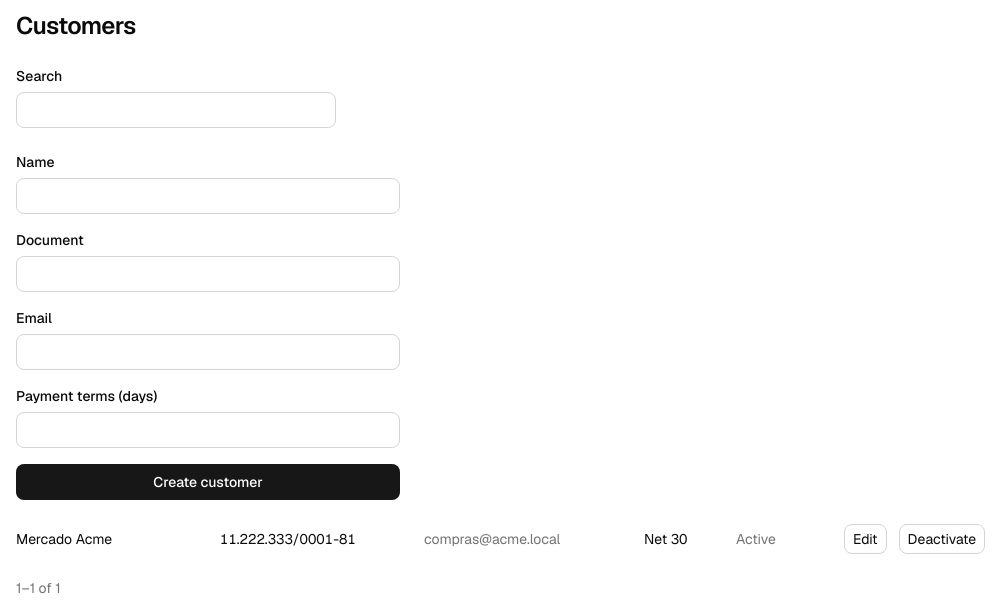
Test: customers panel › switches a customer off from its row and says so
This screenshot has width=1002, height=611.
expect the text "Mercado Acme" is shown: met, box x1=16 y1=530 x2=112 y2=548
Click the button with aria-label "Deactivate Mercado Acme".
click(942, 539)  # box x1=899 y1=524 x2=985 y2=554
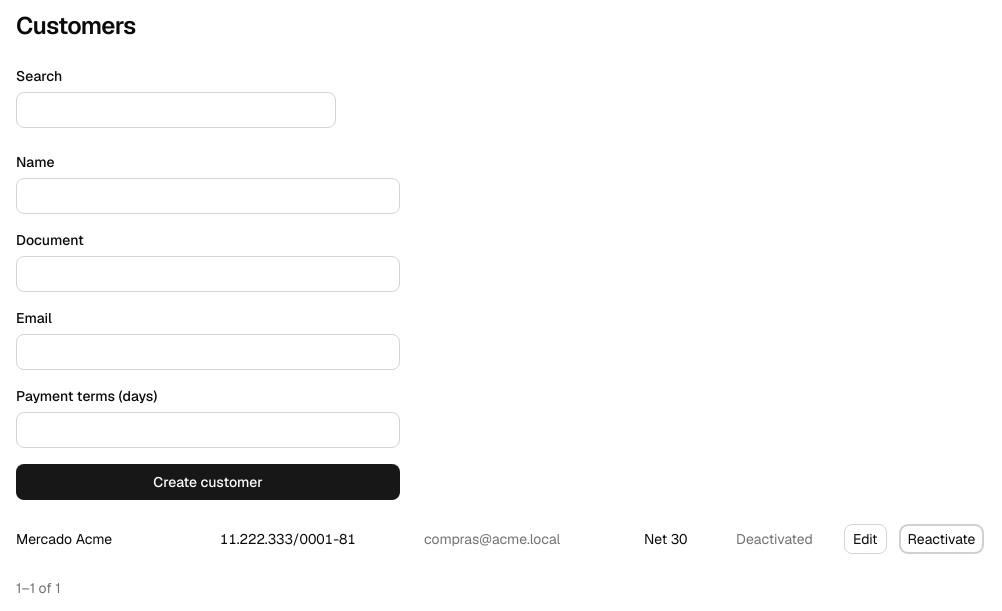
expect the button with aria-label "Reactivate Mercado Acme" is shown: met, box x1=899 y1=524 x2=984 y2=554
expect the text "Deactivated" is shown: met, box x1=736 y1=530 x2=813 y2=548
